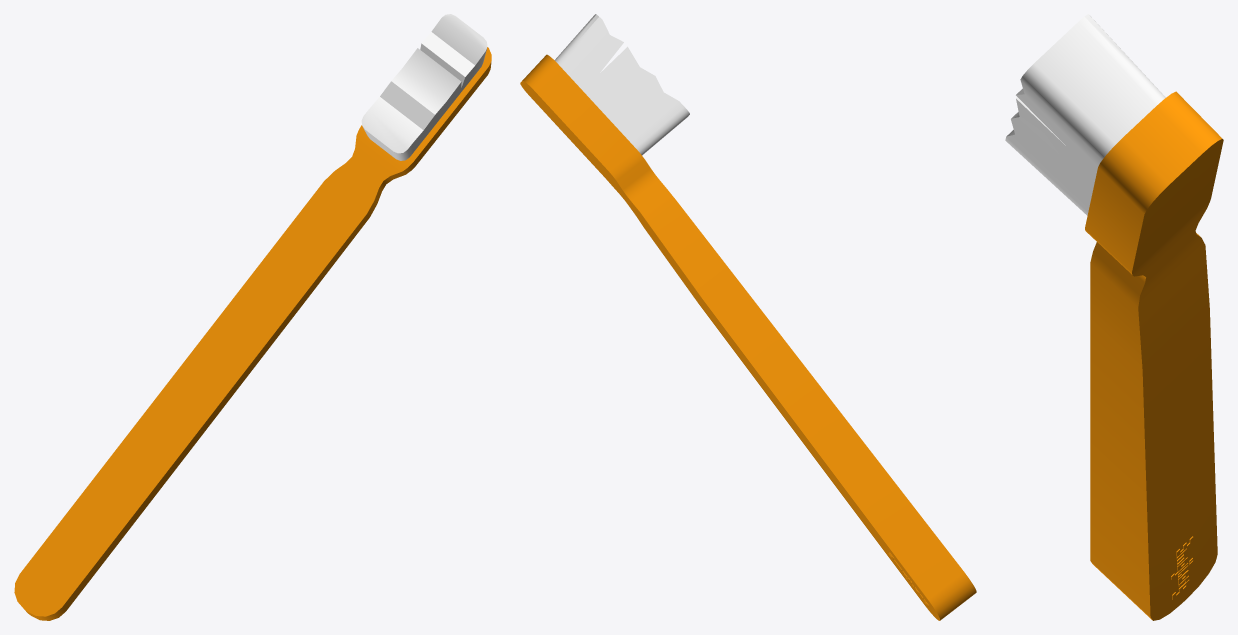
File: toothbrush.fbx
3 renders of one model, left to right at view 1: azimuth 30°, elevation 25°; view 2: azimuth 150°, elevation 25°; view 3: azimuth 270°, elevation 25°, orthographic. The views are drawn at different scales.
Visible parts, largest first — view 1: Cube.1017; view 2: Cube.1017; view 3: Cube.1017.
Part boxes in pixels (bbox=[...]): Cube.1017: bbox=[14, 14, 491, 620]; Cube.1017: bbox=[520, 14, 976, 620]; Cube.1017: bbox=[1005, 14, 1223, 620].
Bounding box in the file's own units: 209 × 222 × 47.33.
1 material, 1 textured.
